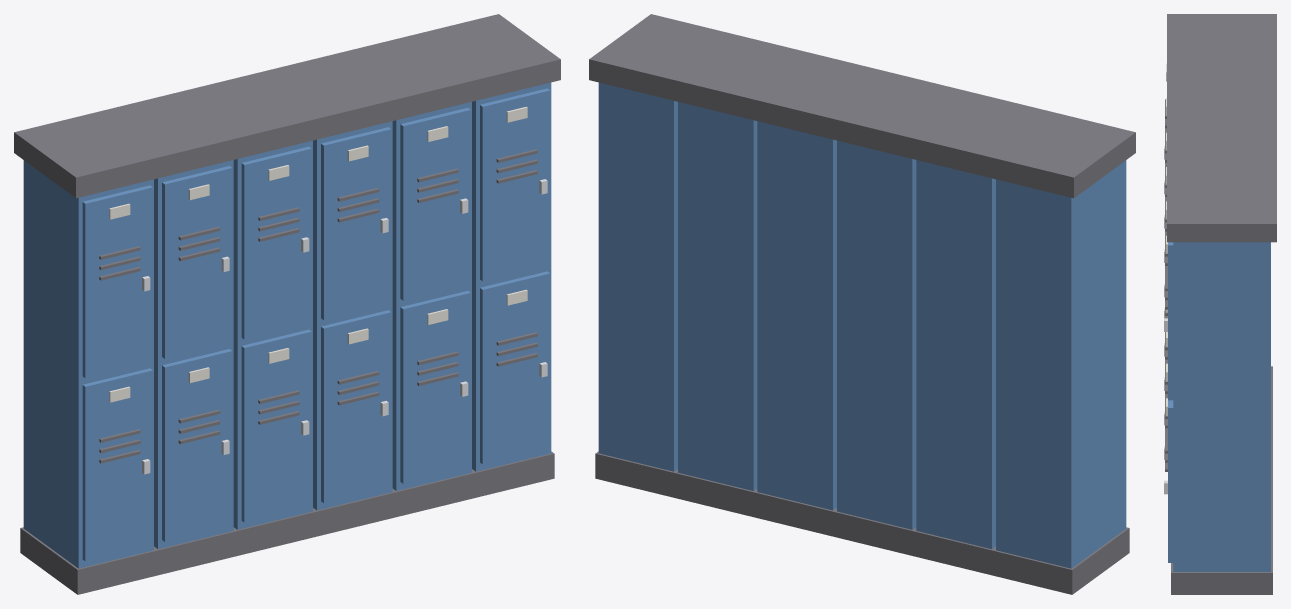
File: casino-floor-and-back-rooms-locker-bank-10002a52__27077.glb
3 views of the same model, side by side, from view 1: azimuth 30°, elevation 25°; view 2: azimuth 150°, elevation 25°; view 3: azimuth 270°, elevation 25° (orthographic). The views are drawn at different scales.
Parts seen in each view (by area): view 1: locker-bank; view 2: locker-bank; view 3: locker-bank.
Part boxes in pixels (bbox=[...]): locker-bank: bbox=[14, 14, 560, 594]; locker-bank: bbox=[589, 14, 1135, 594]; locker-bank: bbox=[1164, 14, 1276, 594].
Bounding box in the file's own units: 2.44 × 2.02 × 0.5549.
